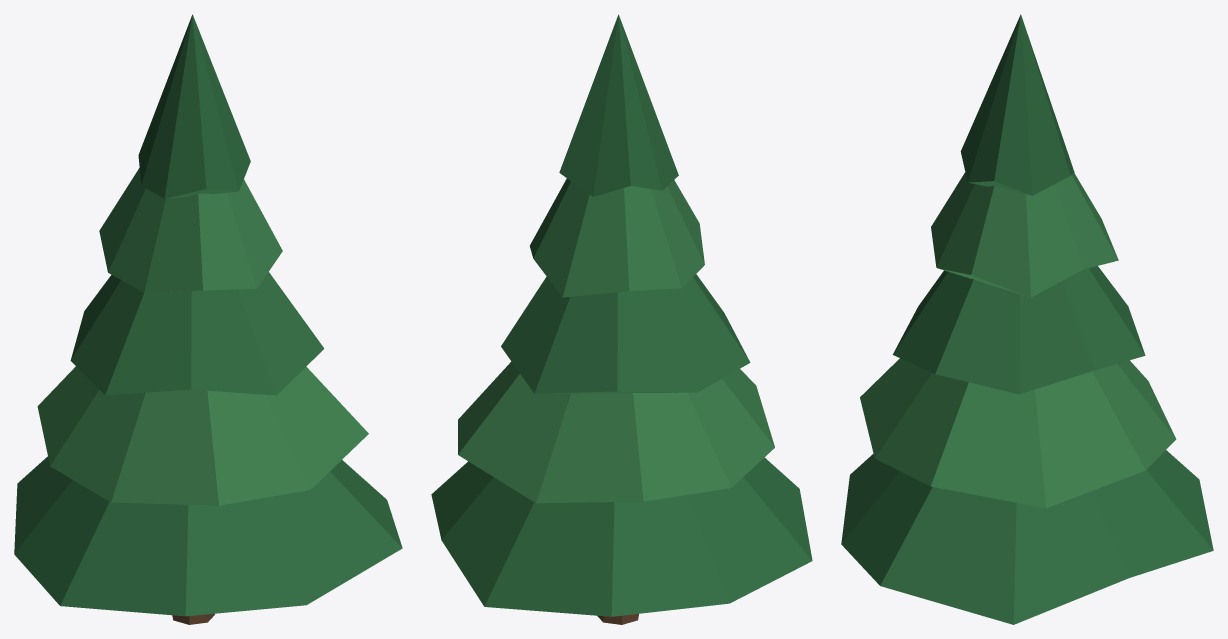
File: tree_pine.glb
3 renders of one model, left to right at view 1: azimuth 30°, elevation 25°; view 2: azimuth 150°, elevation 25°; view 3: azimuth 270°, elevation 25°, orthographic.
Parts seen in each view (by area): view 1: tree_pine; view 2: tree_pine; view 3: tree_pine.
Part boxes in pixels (x1=…): tree_pine: x1=14, y1=14, x2=402, y2=624; tree_pine: x1=431, y1=14, x2=812, y2=624; tree_pine: x1=841, y1=14, x2=1213, y2=624.
Bounding box in the file's own units: 4.74 × 7.7 × 4.4.
